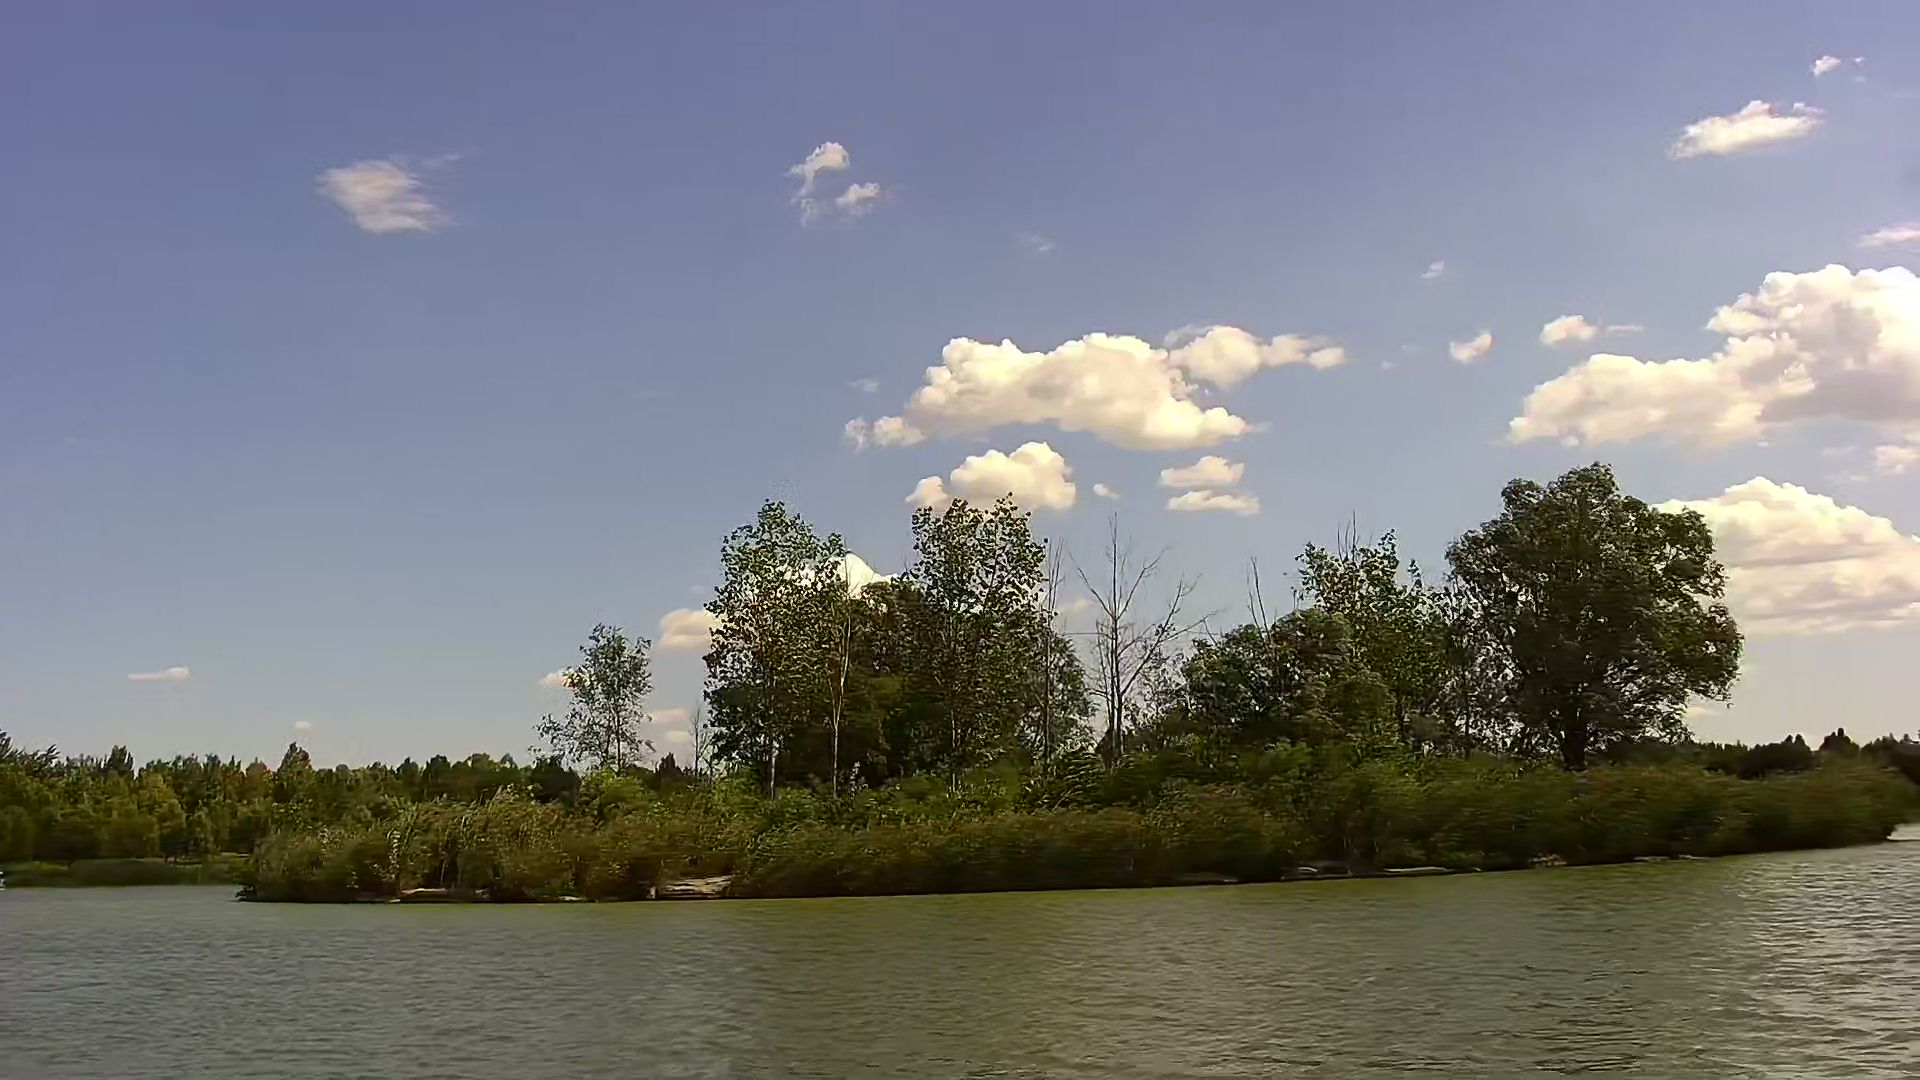rock: (654, 870, 732, 895), (397, 884, 469, 905)
